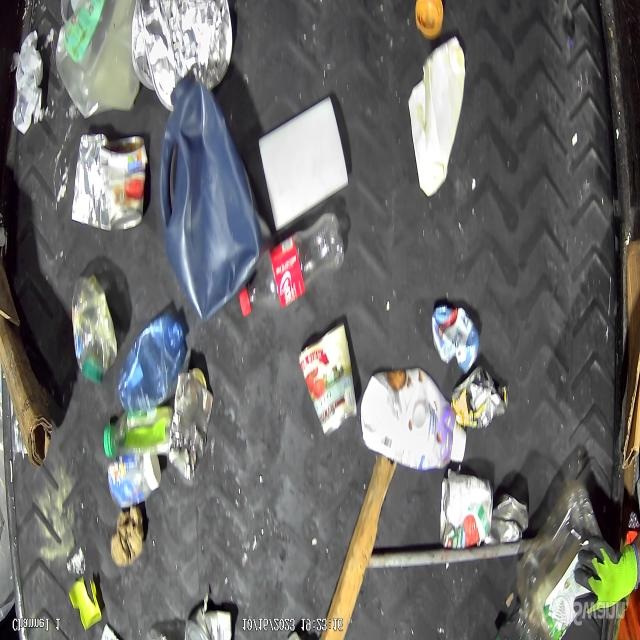can: (297, 320, 359, 439), (168, 369, 215, 481), (100, 136, 149, 232), (439, 467, 494, 550), (71, 132, 112, 234), (452, 363, 509, 431), (430, 302, 480, 376), (484, 490, 531, 548)
milk_jug: (54, 0, 142, 121)
non_white_jug: (158, 70, 276, 324)
plastic_bottle: (238, 210, 346, 320)
